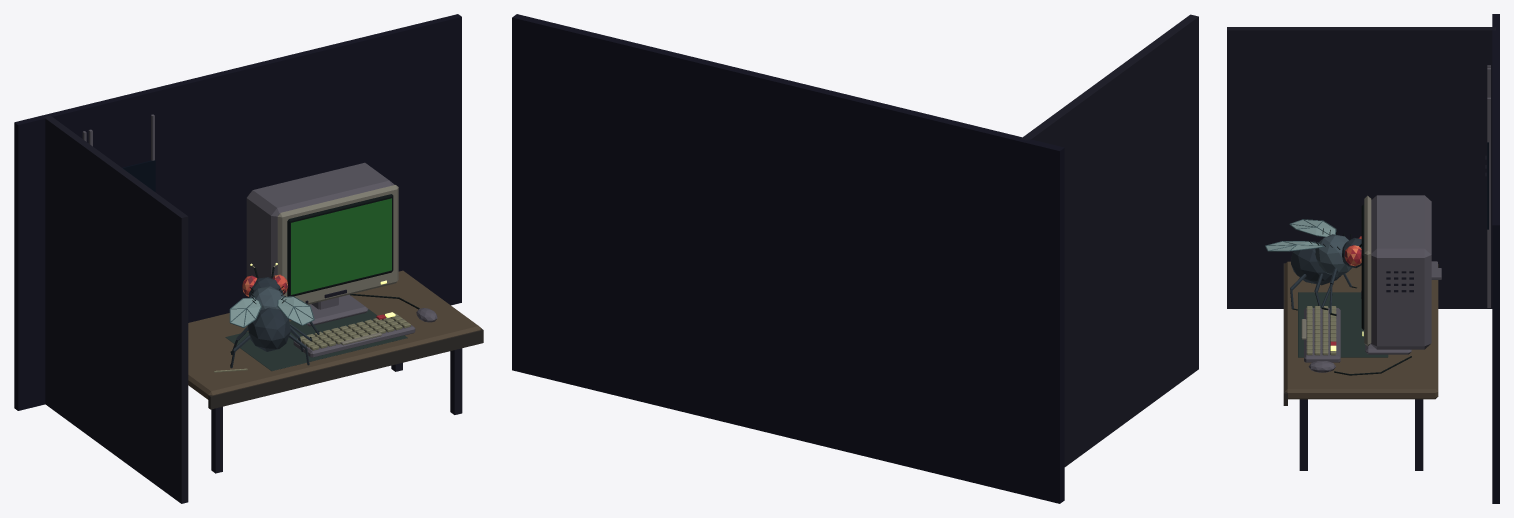
Rendered from flydesk-pixel.glb.
The picture shows the model from 3 angles, left to right: view 1: azimuth 30°, elevation 25°; view 2: azimuth 150°, elevation 25°; view 3: azimuth 270°, elevation 25°; orthographic projection. The views are drawn at different scales.
Visible parts, largest first — view 1: BackWall, SideWall, DeskTop, ScreenSurface, MonitorBody, DeskFront, MonitorBezel, DeskMat, Abdomen, ScreenRecess, MonitorFoot, KeyboardBase (+6 smaller); view 2: BackWall, SideWall; view 3: SideWall, MonitorBody, DeskTop, BackWall, DeskMat, MonitorBezel, Thorax, KeyboardBase, Abdomen, WallTrim.002, DeskLeg.002, DeskLeg.003 (+5 smaller).
Boxes of the visible parts, bbox=[...] form: BackWall: bbox=[14, 14, 461, 410]; SideWall: bbox=[44, 115, 188, 503]; DeskTop: bbox=[188, 270, 481, 399]; ScreenSurface: bbox=[291, 198, 391, 294]; MonitorBody: bbox=[246, 162, 394, 278]; DeskFront: bbox=[208, 328, 483, 409]; MonitorBezel: bbox=[277, 185, 398, 304]; DeskMat: bbox=[225, 309, 407, 371]; Abdomen: bbox=[247, 307, 290, 351]; ScreenRecess: bbox=[287, 194, 393, 296]; MonitorFoot: bbox=[306, 295, 368, 326]; KeyboardBase: bbox=[293, 316, 415, 357]; BackWall: bbox=[512, 14, 1064, 503]; SideWall: bbox=[1021, 14, 1198, 466]; SideWall: bbox=[1227, 27, 1495, 308]; MonitorBody: bbox=[1371, 195, 1431, 349]; DeskTop: bbox=[1284, 261, 1438, 399]; BackWall: bbox=[1492, 14, 1499, 503]; DeskMat: bbox=[1298, 292, 1388, 357]; MonitorBezel: bbox=[1364, 195, 1371, 346]; Thorax: bbox=[1315, 234, 1351, 276]; KeyboardBase: bbox=[1304, 308, 1340, 362]; Abdomen: bbox=[1291, 241, 1341, 285]; WallTrim.002: bbox=[1487, 97, 1490, 307]; DeskLeg.002: bbox=[1299, 399, 1307, 470]; DeskLeg.003: bbox=[1415, 399, 1423, 470].
Size of the model in its own units: 13 by 8.4 by 7.1.
